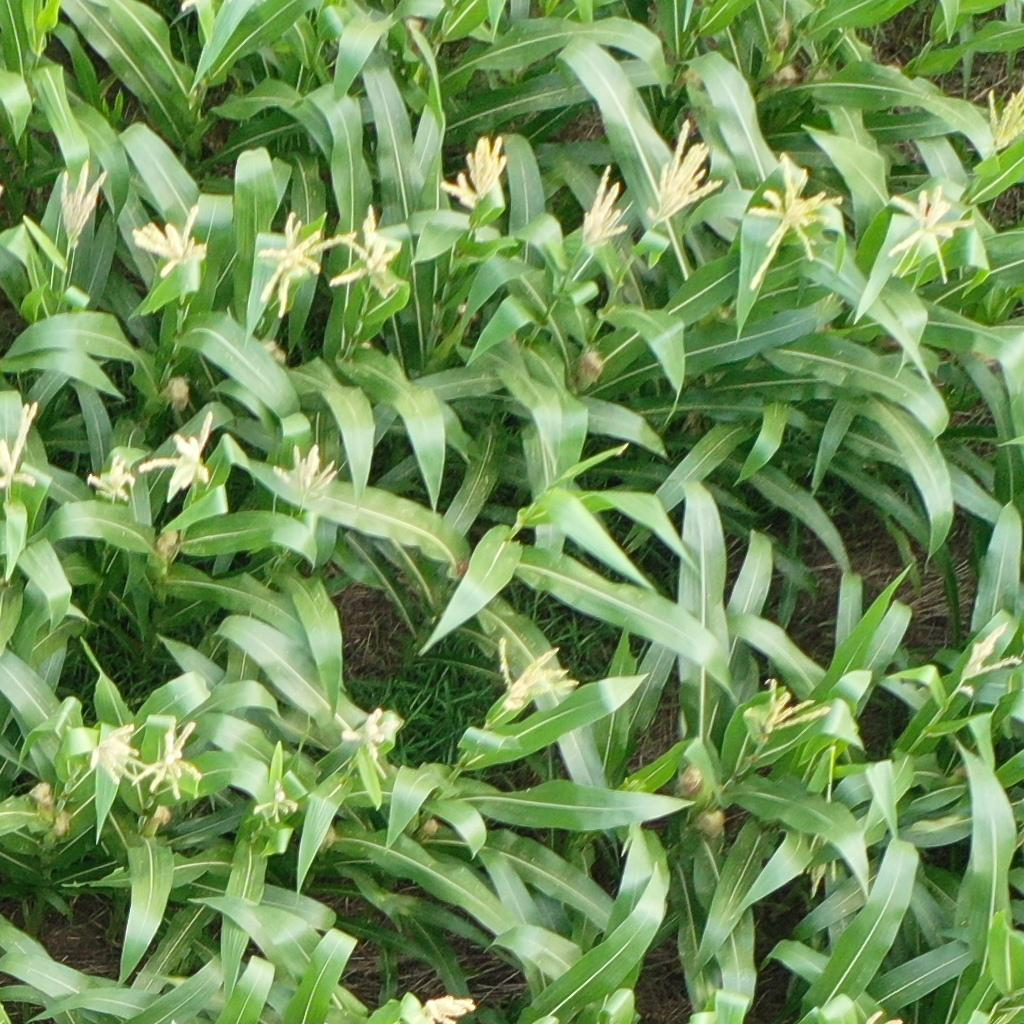Tassel: (746, 152, 845, 292), (251, 212, 358, 321), (645, 116, 727, 228), (883, 186, 974, 285), (490, 636, 583, 712), (136, 410, 218, 492), (328, 205, 407, 288), (128, 720, 207, 800), (128, 204, 212, 278), (952, 618, 1023, 700), (438, 132, 510, 208), (54, 159, 113, 246), (579, 163, 633, 252), (755, 676, 833, 732), (271, 441, 342, 502), (1, 400, 43, 490), (88, 720, 144, 786), (981, 85, 1024, 157), (338, 707, 401, 756), (804, 828, 841, 900), (85, 453, 136, 505), (253, 780, 303, 828), (421, 990, 475, 1024), (864, 1008, 903, 1024)
